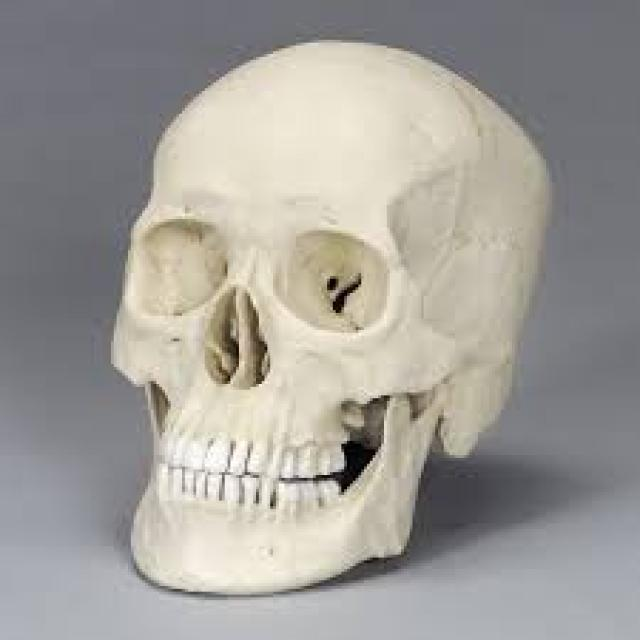skull: (101, 31, 569, 597)
